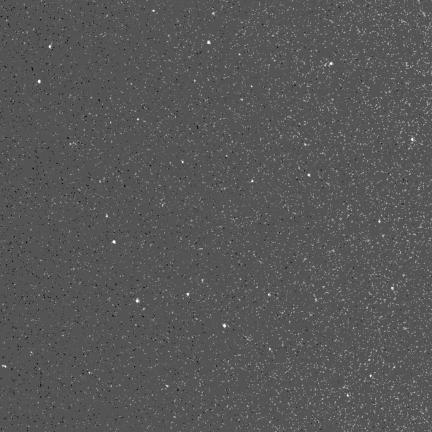blob: (329, 62, 334, 66), (411, 138, 415, 142), (112, 241, 117, 244), (136, 298, 139, 303), (152, 10, 156, 13), (187, 293, 190, 297), (49, 45, 52, 49), (106, 214, 109, 218), (268, 293, 271, 297), (308, 174, 311, 178), (38, 80, 41, 83), (207, 41, 210, 44), (137, 118, 140, 121), (391, 287, 394, 290), (223, 324, 226, 327)
